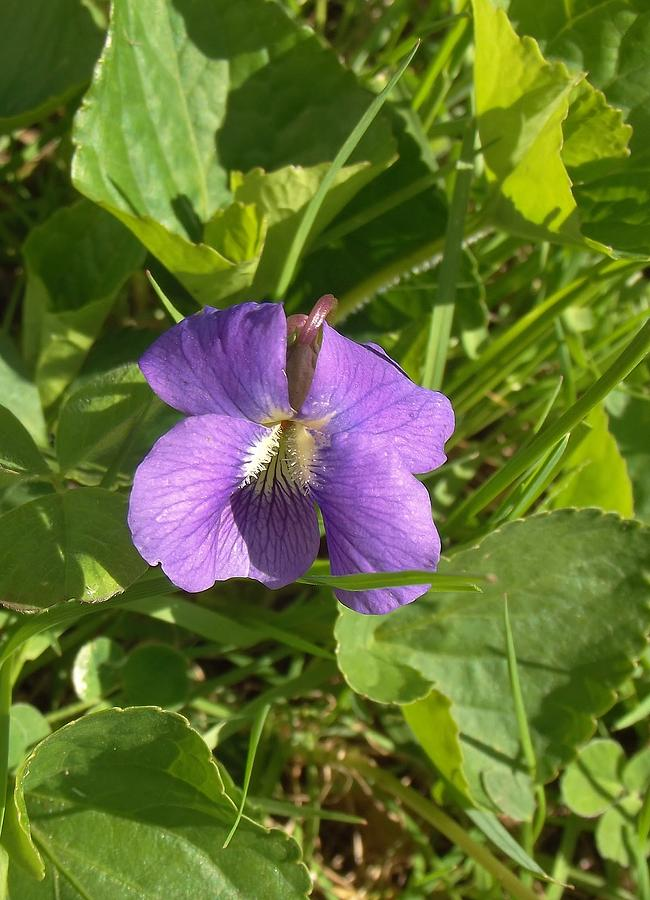violet: (142, 300, 441, 614)
